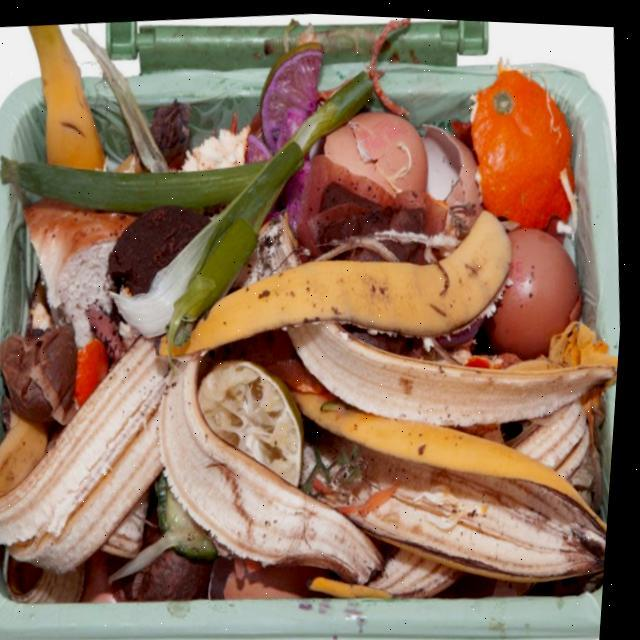Garbage: (0, 16, 624, 640)
